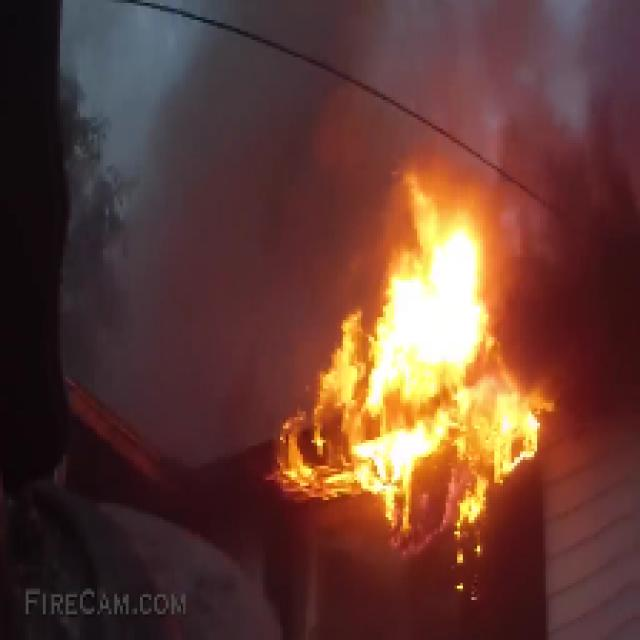fire: (297, 214, 524, 519)
smoke: (160, 77, 279, 412), (541, 174, 631, 390)
